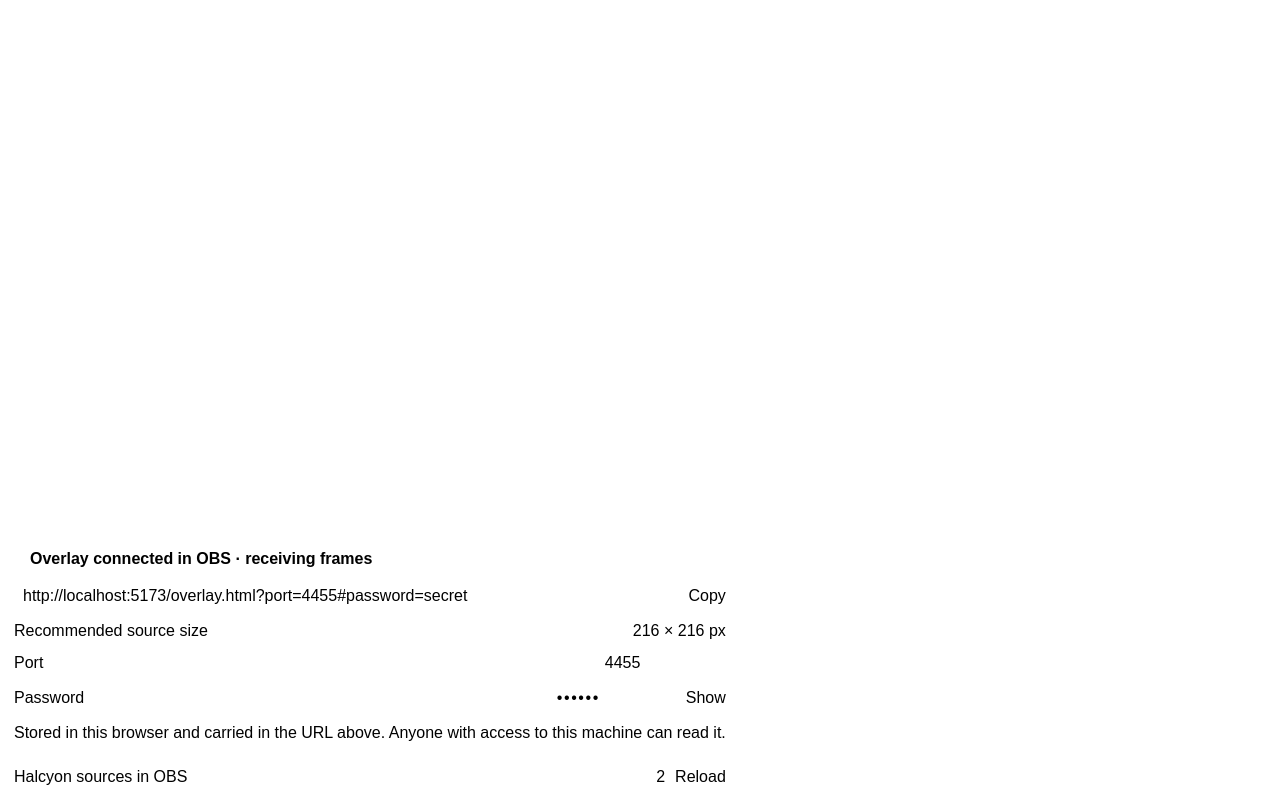
the URL to paste › admits a copy that did not happen
This screenshot has width=1280, height=800.
(page scrolled)
Step 1. Click the button "Copy" → click(707, 596), box x1=688 y1=587 x2=726 y2=605
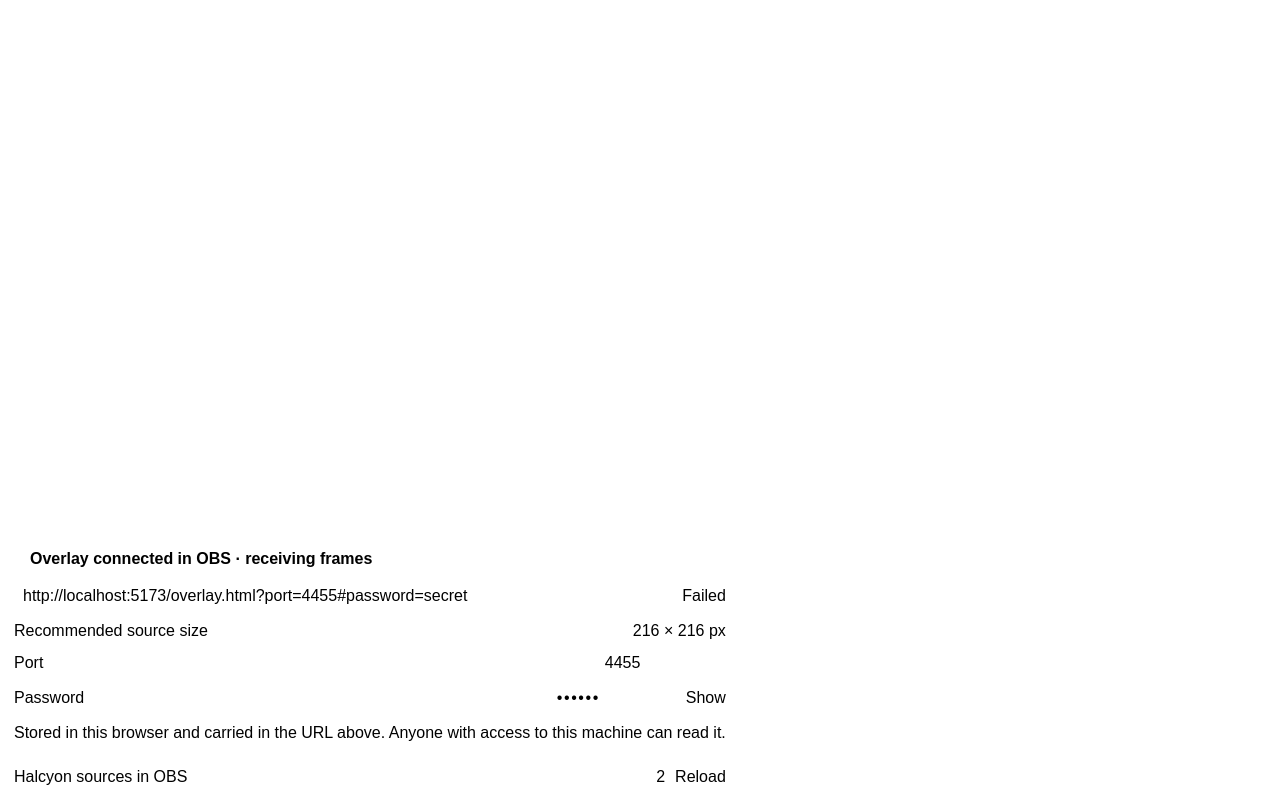
Now the button "Failed" is shown, box x1=682 y1=587 x2=726 y2=605
